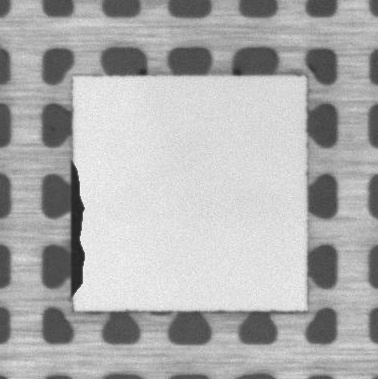DIE_BROKEN: (68, 158, 87, 296)
